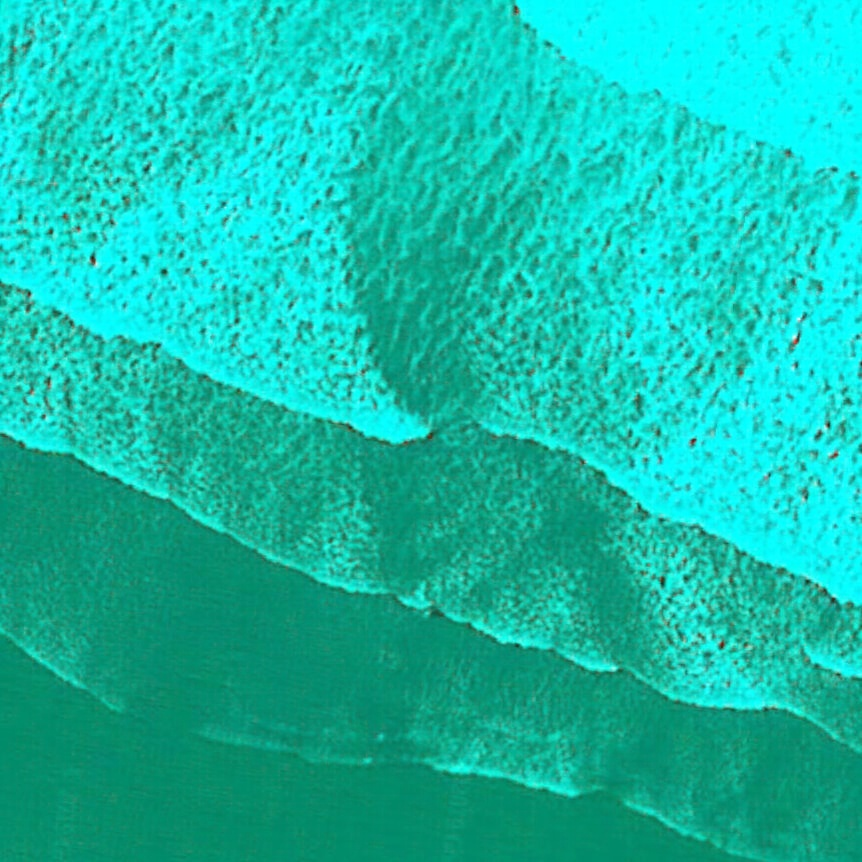rip_current: (243, 125, 634, 645)
